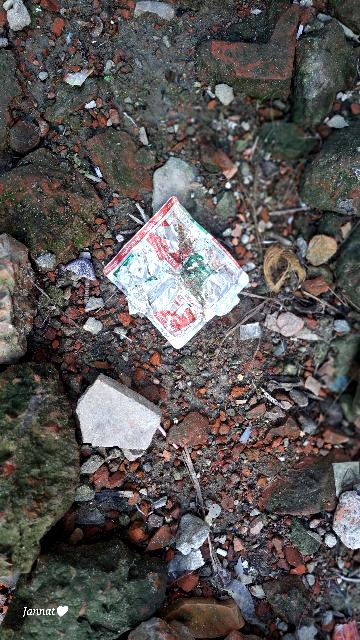medicine: (102, 193, 253, 352)
